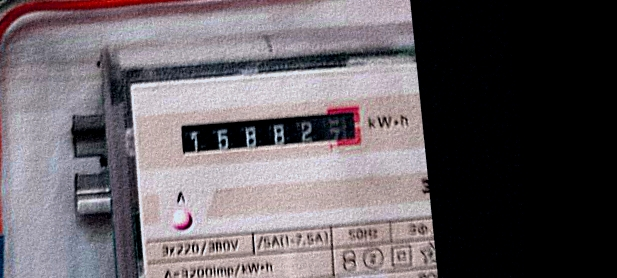1: (187, 128, 203, 151)
2: (298, 119, 316, 144)
5: (215, 125, 231, 151)
7: (328, 123, 342, 141)
8: (271, 121, 287, 147), (243, 124, 258, 149)
screen: (171, 97, 372, 172)
